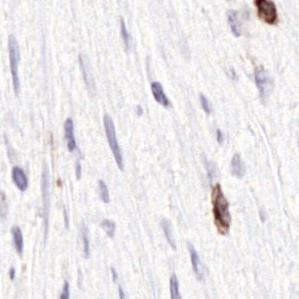Lymphocyte: (208, 182, 234, 236)
